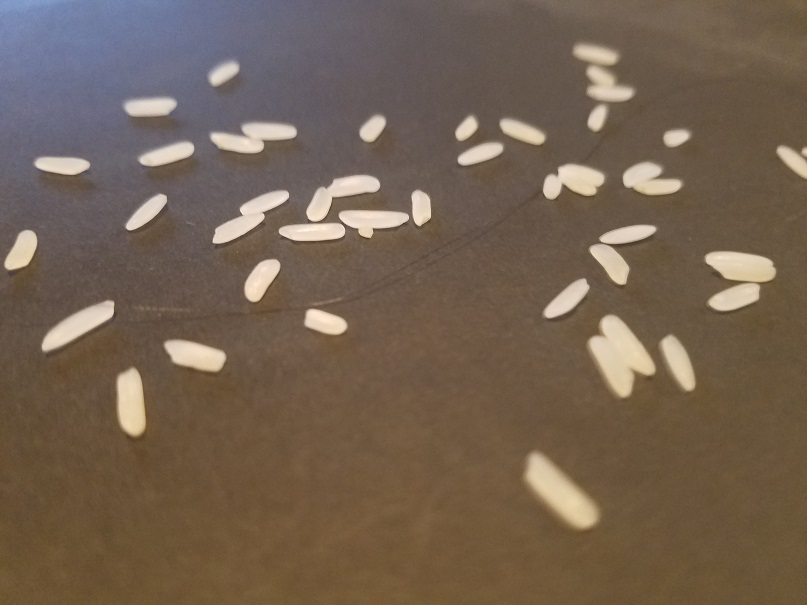egg: (518, 449, 604, 531), (39, 297, 118, 352), (599, 313, 660, 381), (587, 336, 636, 405), (162, 335, 230, 372), (114, 364, 147, 439), (658, 332, 698, 391), (542, 275, 592, 322), (239, 256, 285, 307), (588, 241, 636, 287), (705, 250, 776, 281), (125, 190, 170, 234), (705, 282, 763, 315), (210, 212, 267, 245), (4, 227, 42, 272), (134, 140, 197, 167), (303, 305, 352, 338), (499, 114, 549, 146), (324, 172, 384, 198), (28, 153, 93, 176), (210, 131, 266, 157), (558, 160, 609, 188), (597, 221, 656, 245), (571, 42, 623, 68), (241, 188, 291, 215), (274, 221, 345, 240), (555, 168, 598, 199), (456, 139, 505, 166), (338, 210, 409, 228), (620, 159, 664, 188), (302, 183, 332, 224), (775, 142, 807, 179), (409, 187, 435, 232), (242, 121, 300, 141), (631, 179, 687, 198), (121, 97, 178, 115), (208, 59, 242, 89), (587, 84, 638, 103), (359, 115, 388, 147), (452, 113, 480, 142), (584, 64, 622, 85), (586, 104, 610, 136), (661, 127, 694, 149), (543, 171, 562, 204), (358, 222, 376, 241)
